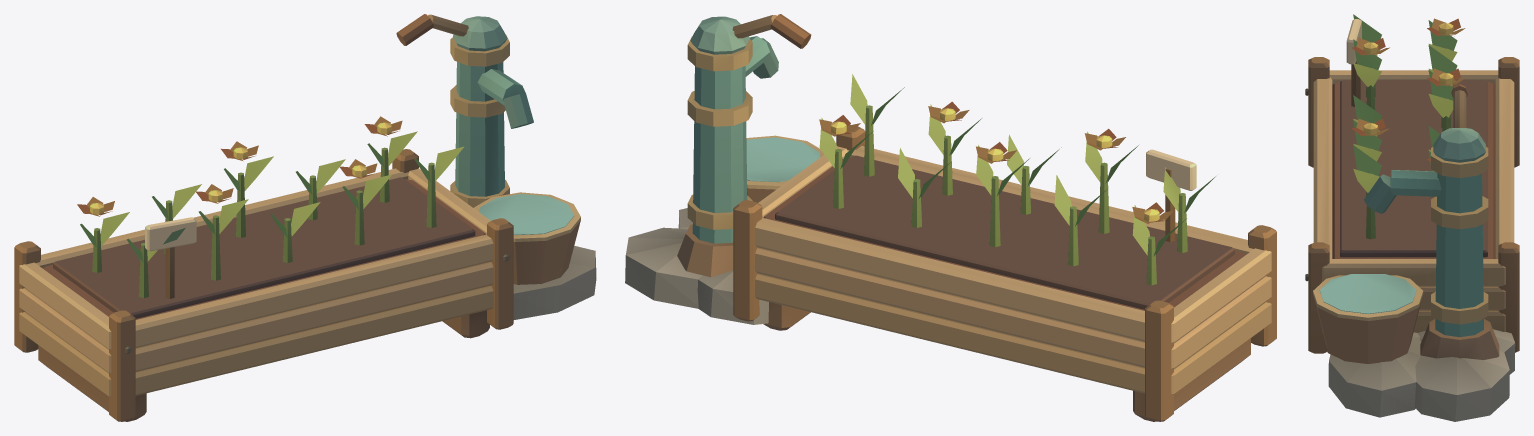
The model's file is town_pump.glb.
3 renders of one model, left to right at view 1: azimuth 30°, elevation 25°; view 2: azimuth 150°, elevation 25°; view 3: azimuth 270°, elevation 25°, orthographic. The views are drawn at different scales.
Visible parts, largest first — view 1: Die kupferne Dorfpumpe; view 2: Die kupferne Dorfpumpe; view 3: Die kupferne Dorfpumpe.
Part boxes in pixels (left/top/right/bottom): Die kupferne Dorfpumpe: left=14, top=14, right=596, bottom=421; Die kupferne Dorfpumpe: left=625, top=14, right=1276, bottom=421; Die kupferne Dorfpumpe: left=1305, top=14, right=1519, bottom=421.
Bounding box in the file's own units: 2.26 × 1.15 × 0.7969.
